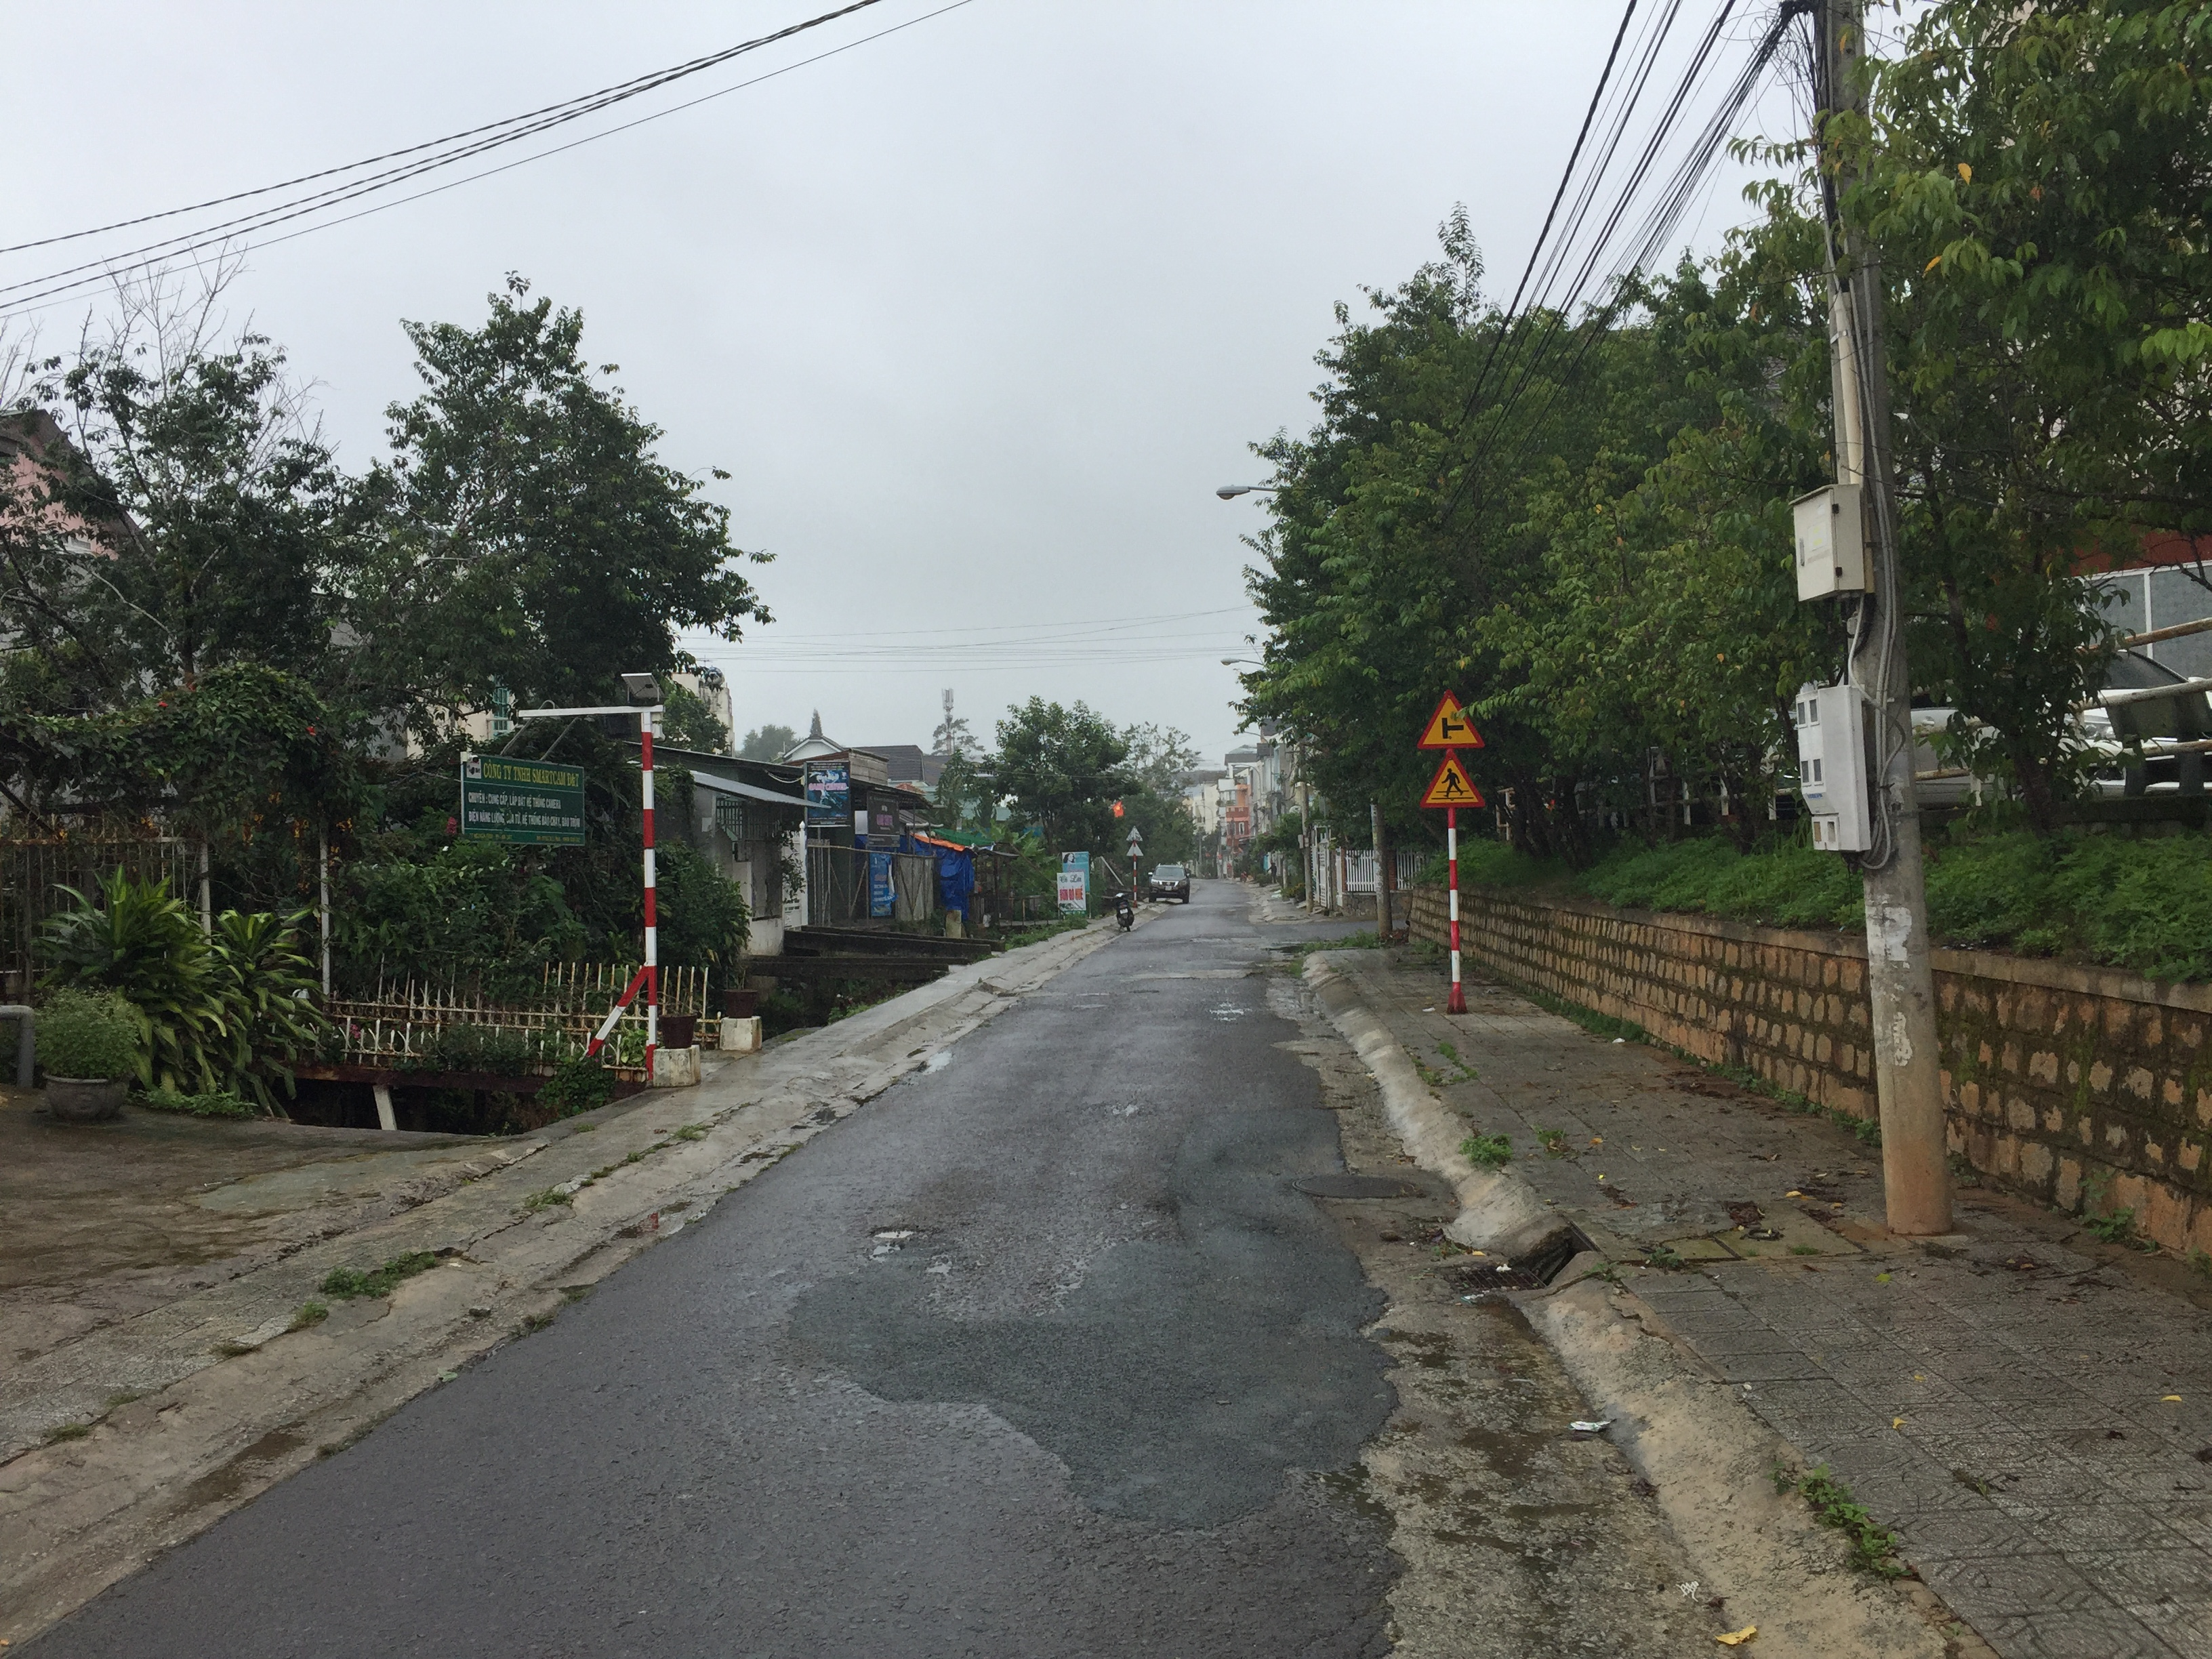hole: (1132, 1192, 1197, 1222), (1101, 1100, 1155, 1122), (862, 1223, 925, 1243), (862, 1239, 907, 1260)
